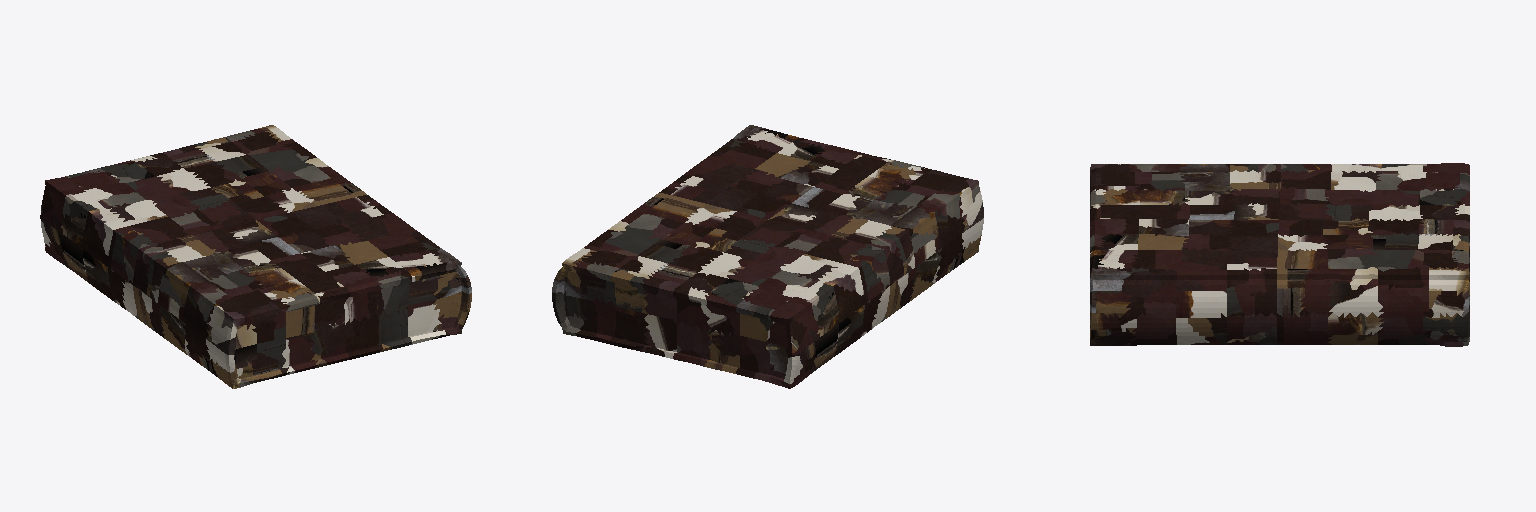
3 views of the same model, side by side, from view 1: azimuth 30°, elevation 25°; view 2: azimuth 150°, elevation 25°; view 3: azimuth 270°, elevation 25° (orthographic).
Visible parts, largest first — view 1: book; view 2: book; view 3: book.
Part boxes in pixels (x1,y1,x2,y2): book: (40, 125, 471, 388); book: (552, 125, 983, 388); book: (1090, 163, 1469, 346).
Size of the model in its own units: 1.49 by 0.4189 by 2.
Materials: 1 (1 with a texture image).